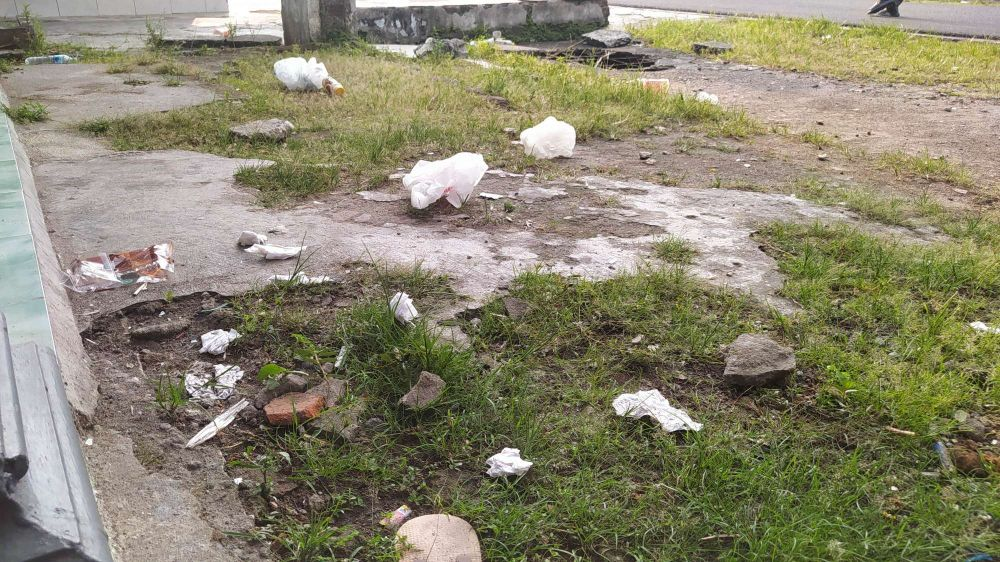plastik: (189, 318, 254, 448), (234, 232, 330, 300), (400, 149, 498, 212), (611, 376, 709, 434), (452, 429, 538, 486), (514, 111, 586, 162), (257, 50, 331, 93), (378, 294, 431, 328)
